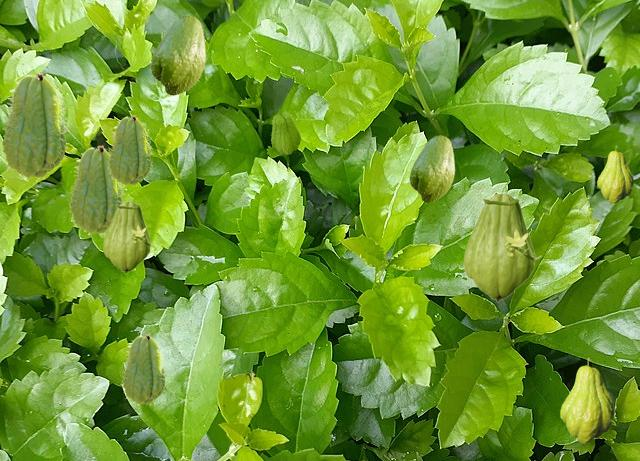sayote: (463, 193, 541, 301), (0, 72, 68, 180), (68, 145, 124, 235), (560, 357, 613, 442), (149, 15, 205, 95), (103, 201, 154, 272), (121, 334, 166, 405), (107, 115, 152, 186), (408, 135, 454, 202), (597, 145, 632, 202), (270, 109, 300, 153)
